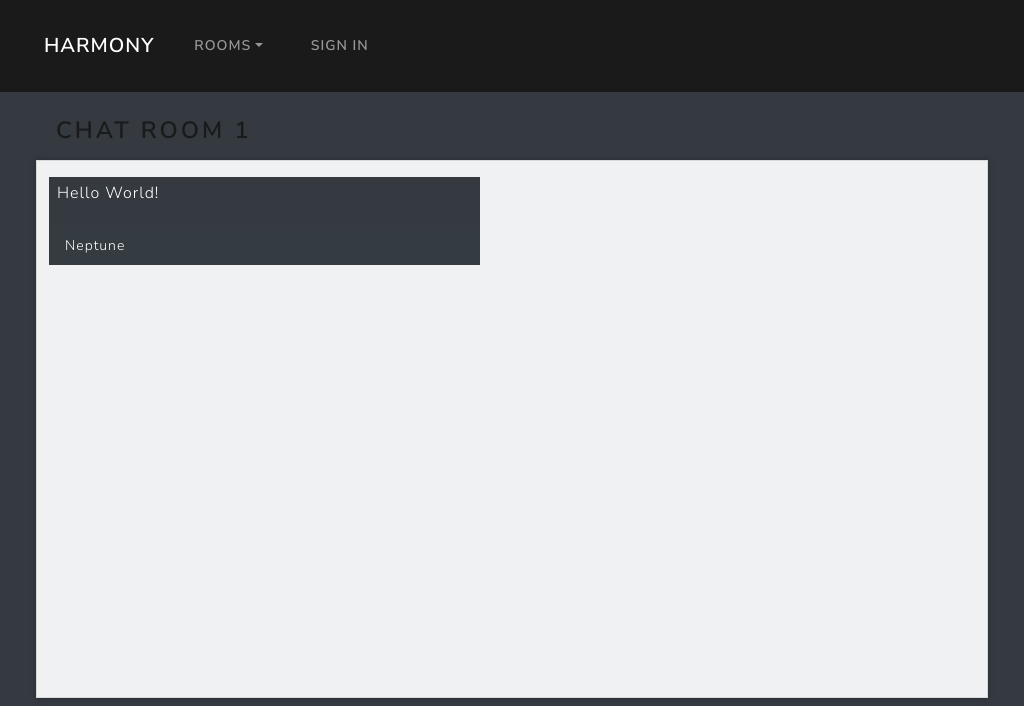
Main › Navbar › Rooms list › the drop down list is visible when it is toggled
This screenshot has width=1024, height=706.
Click the element with class "dropdown": click(223, 46) left=194, top=36, right=251, bottom=55
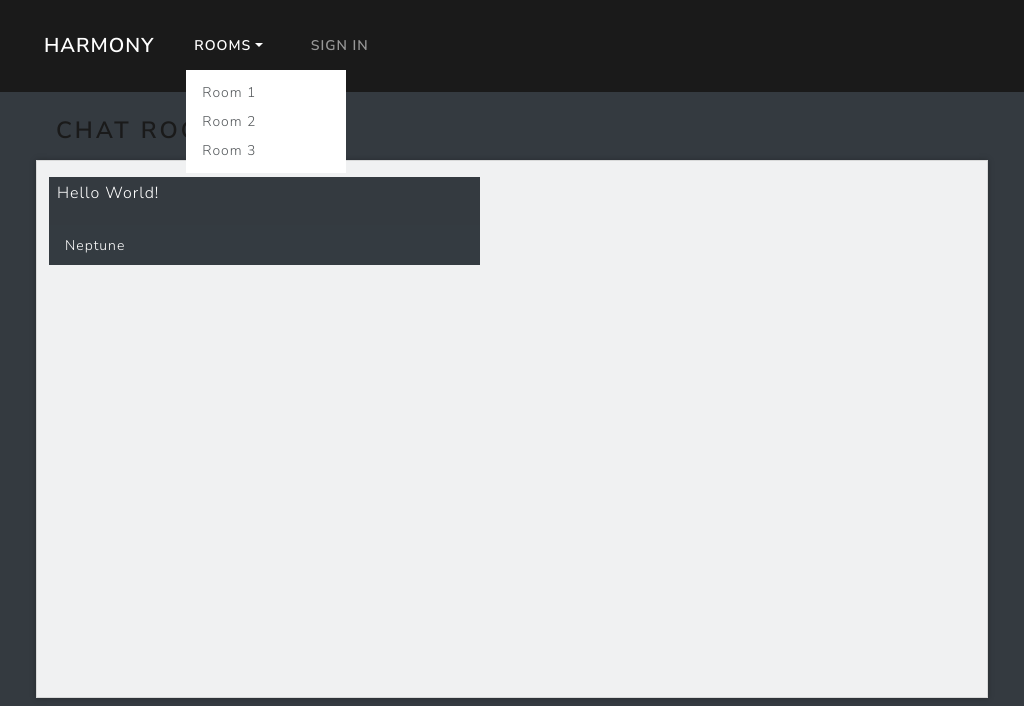
expect the element with class "dropdown-menu" is shown: met, box left=186, top=70, right=346, bottom=173
